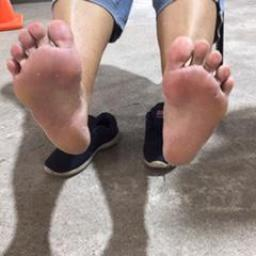Plantar View -Both Feet-: (1, 10, 239, 177)
